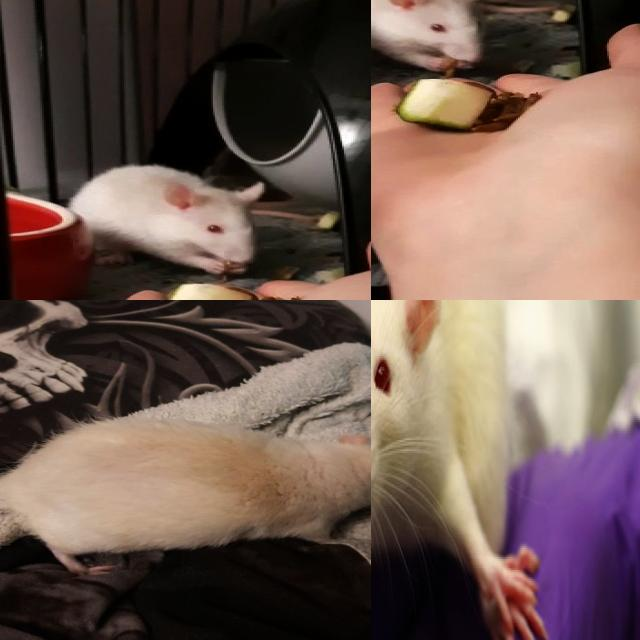rat: (371, 300, 556, 640), (3, 413, 371, 570), (67, 164, 266, 277), (371, 0, 499, 74)
